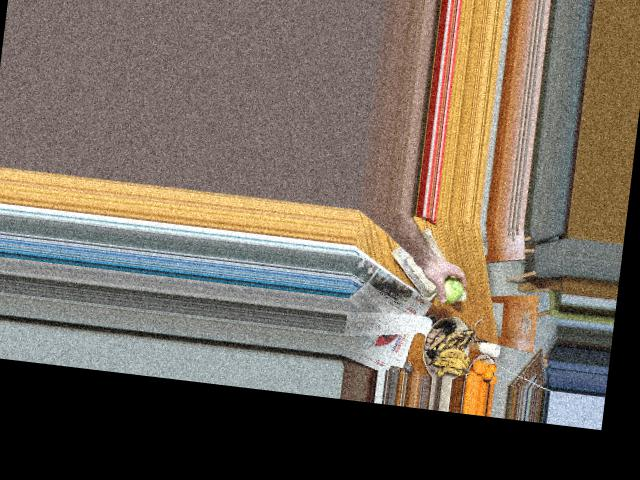apple: (434, 274, 466, 305)
